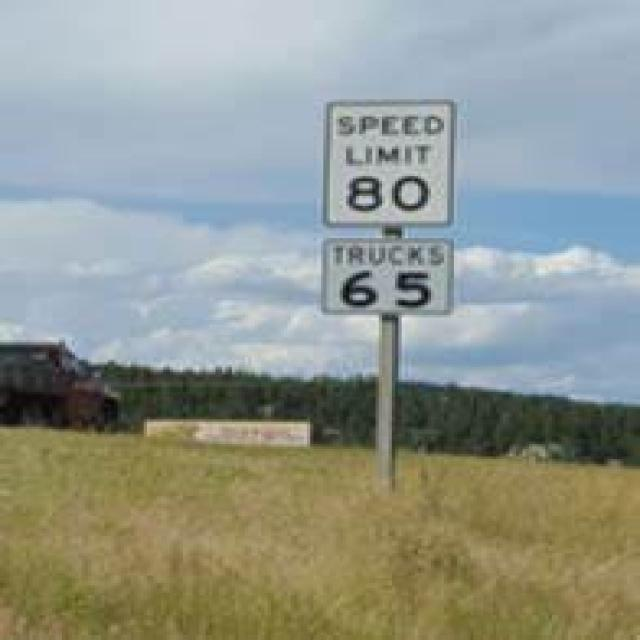speedLimit80: (330, 87, 444, 233)
